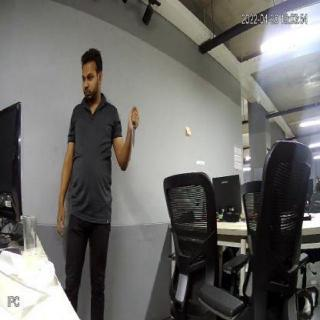knife: (129, 121, 139, 153)
